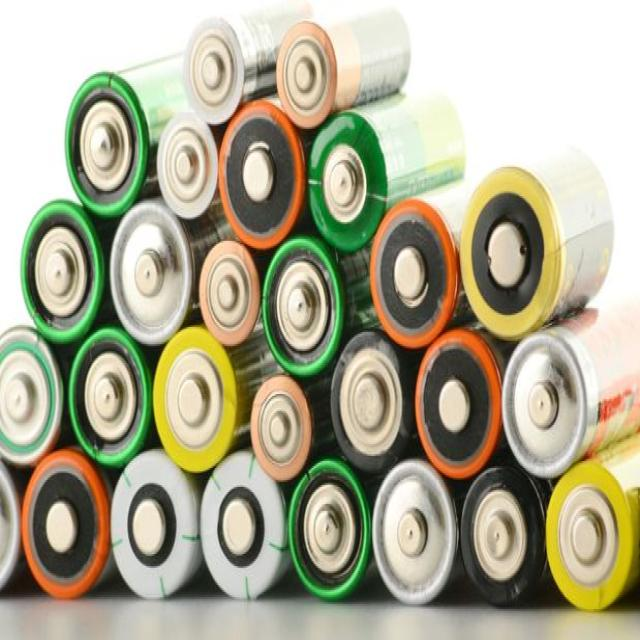electronic: (468, 168, 574, 340), (51, 51, 151, 208), (500, 341, 604, 486), (12, 196, 108, 342), (30, 440, 114, 602), (111, 440, 202, 589), (410, 332, 504, 476), (201, 459, 291, 608), (255, 244, 352, 382), (367, 201, 459, 345), (540, 463, 627, 613), (307, 108, 392, 257), (330, 322, 412, 472), (61, 318, 148, 458), (458, 462, 542, 605), (153, 336, 240, 464), (229, 98, 303, 242), (376, 458, 452, 596), (167, 6, 251, 126), (117, 206, 188, 332), (2, 328, 64, 466), (241, 372, 316, 481), (156, 106, 220, 225), (202, 226, 259, 354)
